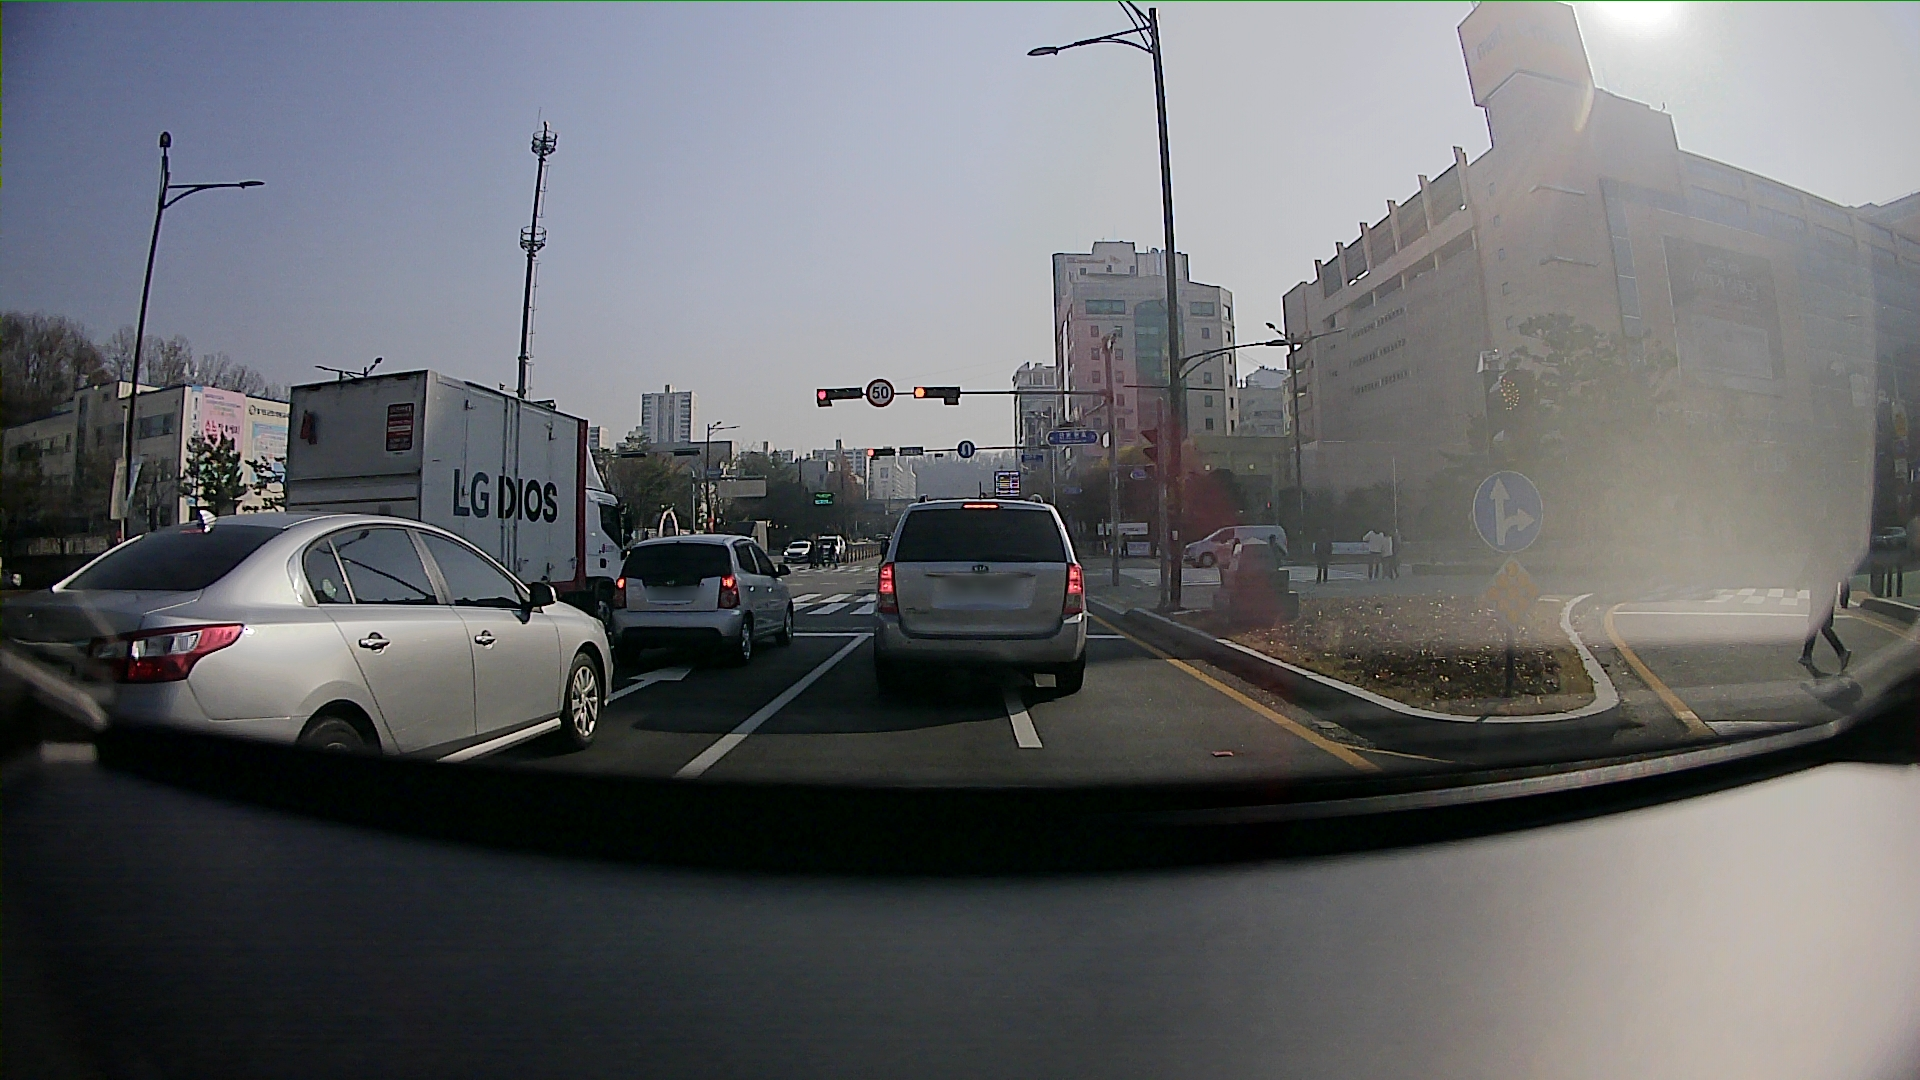trafficLight: (913, 382, 961, 401), (816, 385, 861, 398)
trafficSignCircle: (1469, 467, 1548, 556), (869, 378, 891, 405), (957, 436, 977, 459)
